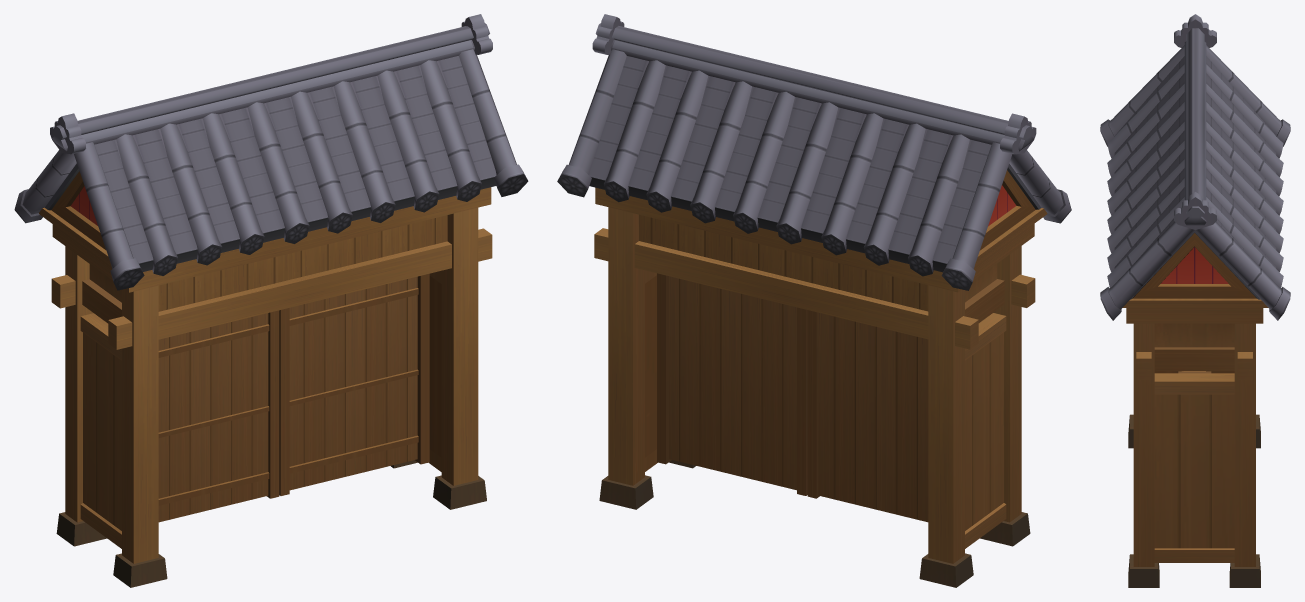
The model's file is SK_Gate.FBX.
3 renders of one model, left to right at view 1: azimuth 30°, elevation 25°; view 2: azimuth 150°, elevation 25°; view 3: azimuth 270°, elevation 25°, orthographic. The views are drawn at different scales.
Visible parts, largest first — view 1: SK_Gate_wood, SK_Gate_roof; view 2: SK_Gate_wood, SK_Gate_roof; view 3: SK_Gate_wood, SK_Gate_roof, SK_Gate_side.
Part boxes in pixels (left/top/right/bottom): SK_Gate_wood: left=39, top=171, right=492, bottom=587; SK_Gate_roof: left=14, top=14, right=528, bottom=290; SK_Gate_wood: left=594, top=170, right=1047, bottom=587; SK_Gate_roof: left=557, top=14, right=1071, bottom=290; SK_Gate_wood: left=1122, top=233, right=1268, bottom=587; SK_Gate_roof: left=1100, top=14, right=1290, bottom=320; SK_Gate_side: left=1161, top=247, right=1228, bottom=283.
Bounding box in the file's own units: 341 × 345 × 147.
